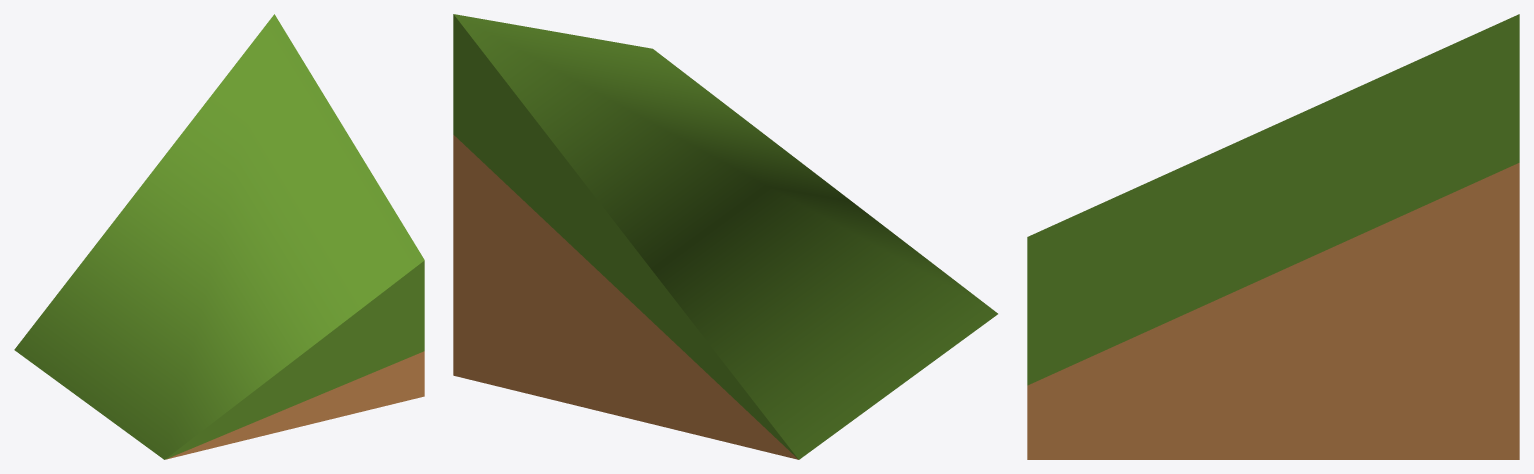
File: TileGrassMiring2ArahHalf.fbx
3 views of the same model, side by side, from view 1: azimuth 30°, elevation 25°; view 2: azimuth 150°, elevation 25°; view 3: azimuth 270°, elevation 25° (orthographic). The views are drawn at different scales.
Visible parts, largest first — view 1: Tile_Center; view 2: Tile_Center; view 3: Tile_Center.
Part boxes in pixels (box(x1,y1,x2,y2)): Tile_Center: box(14, 14, 424, 459); Tile_Center: box(453, 14, 997, 459); Tile_Center: box(1027, 14, 1519, 459).
Size of the model in its own units: 200 by 200 by 200.
